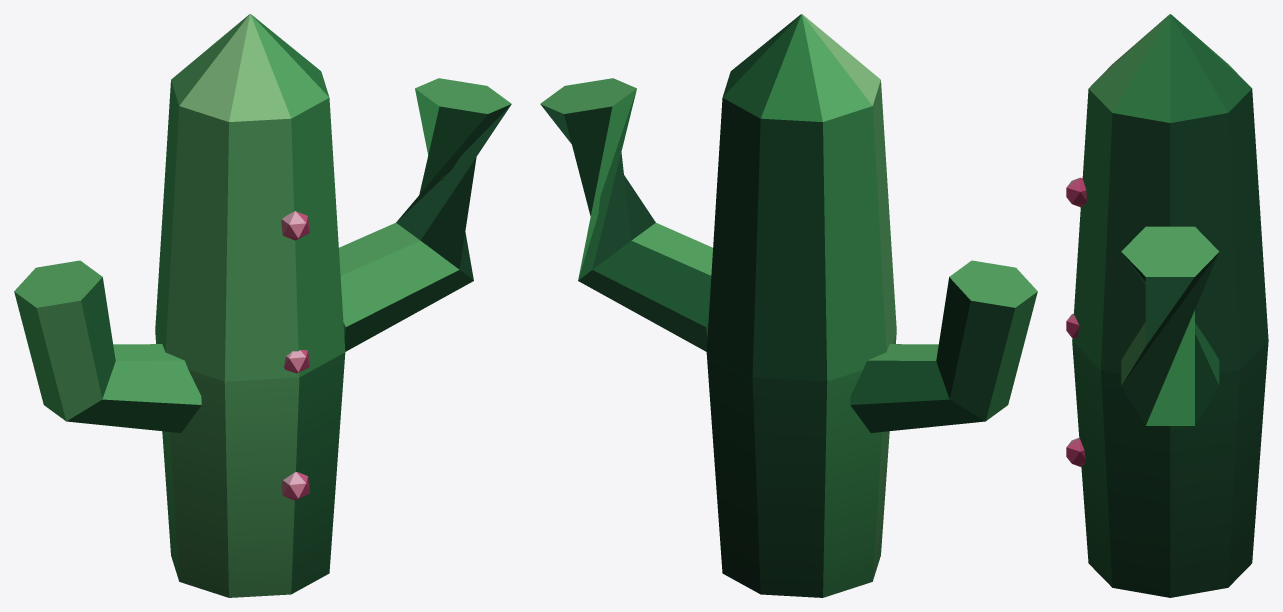
Rendered from cactus.glb.
3 views of the same model, side by side, from view 1: azimuth 30°, elevation 25°; view 2: azimuth 150°, elevation 25°; view 3: azimuth 270°, elevation 25° (orthographic).
Parts seen in each view (by area): view 1: cactus; view 2: cactus; view 3: cactus.
Boxes of the visible parts, bbox=[...] form: cactus: bbox=[14, 14, 511, 597]; cactus: bbox=[540, 14, 1037, 597]; cactus: bbox=[1066, 14, 1268, 597].
Size of the model in its own units: 0.6675 by 0.74 by 0.247.
